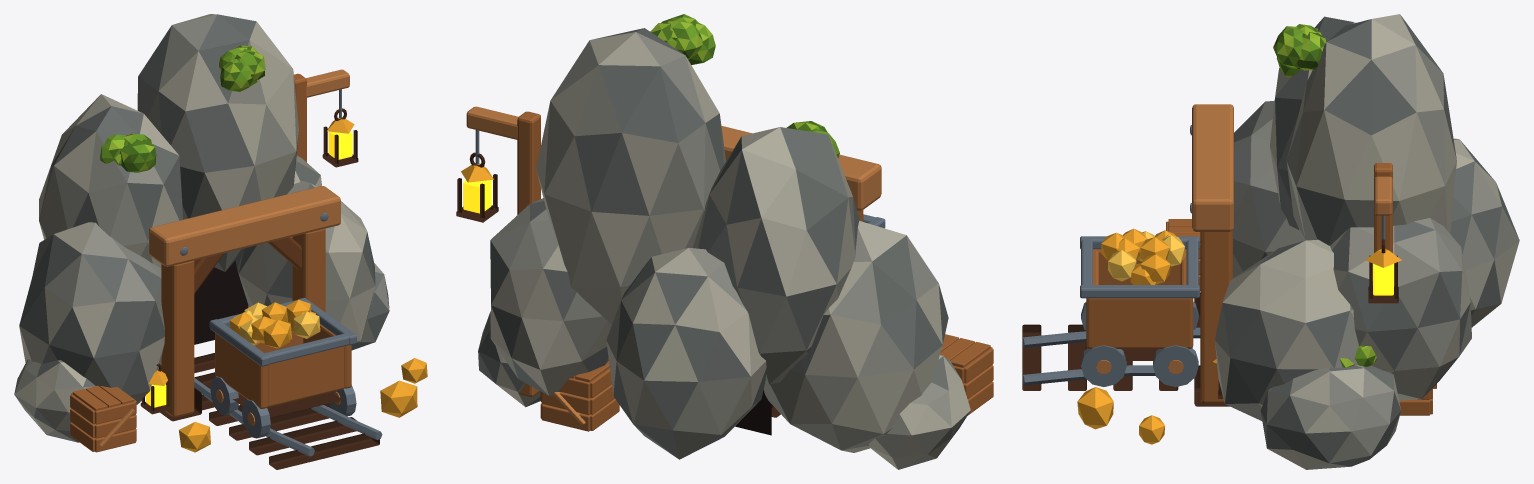
Rendered from gold_mine.glb.
3 renders of one model, left to right at view 1: azimuth 30°, elevation 25°; view 2: azimuth 150°, elevation 25°; view 3: azimuth 270°, elevation 25°, orthographic. The views are drawn at different scales.
Parts seen in each view (by area): view 1: Mine outcrop.003, Mine outcrop, Mine outcrop.002, Heavy mine lintel, Mine outcrop.001, Mine portal upright, Mine outcrop.005, Cart end, Mine tunnel darkness, Cart side, Mine portal upright.001, Railway timber sleeper (+31 smaller); view 2: Mine outcrop.003, Mine outcrop.002, Mine outcrop.007, Mine outcrop, Mine outcrop.004, Mine outcrop.005, Mine lantern post, Heavy mine lintel, Mine outcrop.006, Mine lantern arm, Leaf cluster.006, Mine tunnel darkness (+4 smaller); view 3: Mine outcrop.003, Mine outcrop.001, Mine outcrop.004, Mine outcrop.006, Mine outcrop.007, Mine outcrop, Cart side.001, Heavy mine lintel, Mine portal upright.001, Mine outcrop.002, Cart iron side rim.001, Minecart iron wheel.002 (+18 smaller).
Boxes of the visible parts, <box> form: Mine outcrop.003: <box>137,14,298,271</box>; Mine outcrop: <box>19,222,164,404</box>; Mine outcrop.002: <box>39,94,183,268</box>; Heavy mine lintel: <box>149,186,340,266</box>; Mine outcrop.001: <box>238,181,375,341</box>; Mine portal upright: <box>161,260,194,417</box>; Mine outcrop.005: <box>14,359,95,442</box>; Cart end: <box>267,346,344,407</box>; Mine tunnel darkness: <box>194,260,248,344</box>; Cart side: <box>215,333,267,408</box>; Mine portal upright.001: <box>292,228,325,312</box>; Railway timber sleeper: <box>269,433,379,469</box>; Mine outcrop.003: <box>536,28,725,324</box>; Mine outcrop.002: <box>693,127,860,384</box>; Mine outcrop.007: <box>606,248,766,459</box>; Mine outcrop: <box>763,221,948,452</box>; Mine outcrop.004: <box>490,198,611,395</box>; Mine outcrop.005: <box>867,355,970,469</box>; Mine lantern post: <box>517,111,540,396</box>; Heavy mine lintel: <box>721,126,881,210</box>; Mine outcrop.006: <box>478,311,540,407</box>; Mine lantern arm: <box>466,106,518,139</box>; Leaf cluster.006: <box>667,21,702,59</box>; Mine tunnel darkness: <box>735,390,771,435</box>; Mine outcrop.003: <box>1286,14,1456,245</box>; Mine outcrop.001: <box>1215,239,1358,420</box>; Mine outcrop.004: <box>1330,218,1471,400</box>; Mine outcrop.006: <box>1260,365,1401,469</box>; Mine outcrop.007: <box>1450,138,1519,327</box>; Mine outcrop: <box>1233,100,1304,278</box>; Cart side.001: <box>1086,298,1193,348</box>; Heavy mine lintel: <box>1192,104,1233,231</box>; Mine portal upright.001: <box>1200,231,1232,403</box>; Mine outcrop.002: <box>1270,16,1356,237</box>; Cart iron side rim.001: <box>1080,285,1199,298</box>; Minecart iron wheel.002: <box>1081,345,1126,386</box>.
Bounding box in the file's own units: 4.14 × 3.65 × 4.15.
